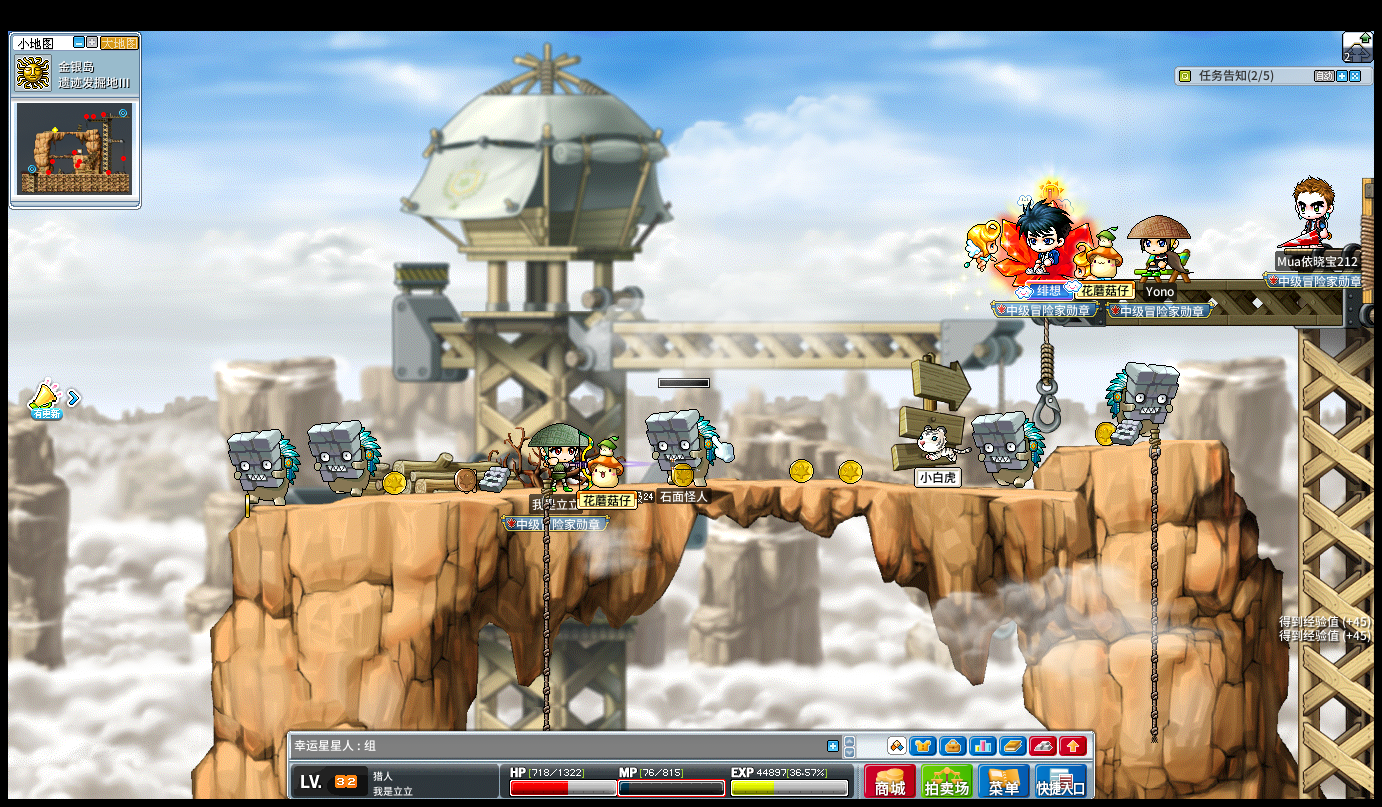floor: (235, 475, 1133, 499), (1062, 435, 1225, 451)
monster: (1104, 360, 1179, 445), (307, 419, 382, 501), (972, 411, 1046, 490), (226, 428, 299, 508), (644, 408, 719, 483)
rope: (1145, 422, 1161, 745), (538, 482, 551, 781), (539, 481, 551, 689)
